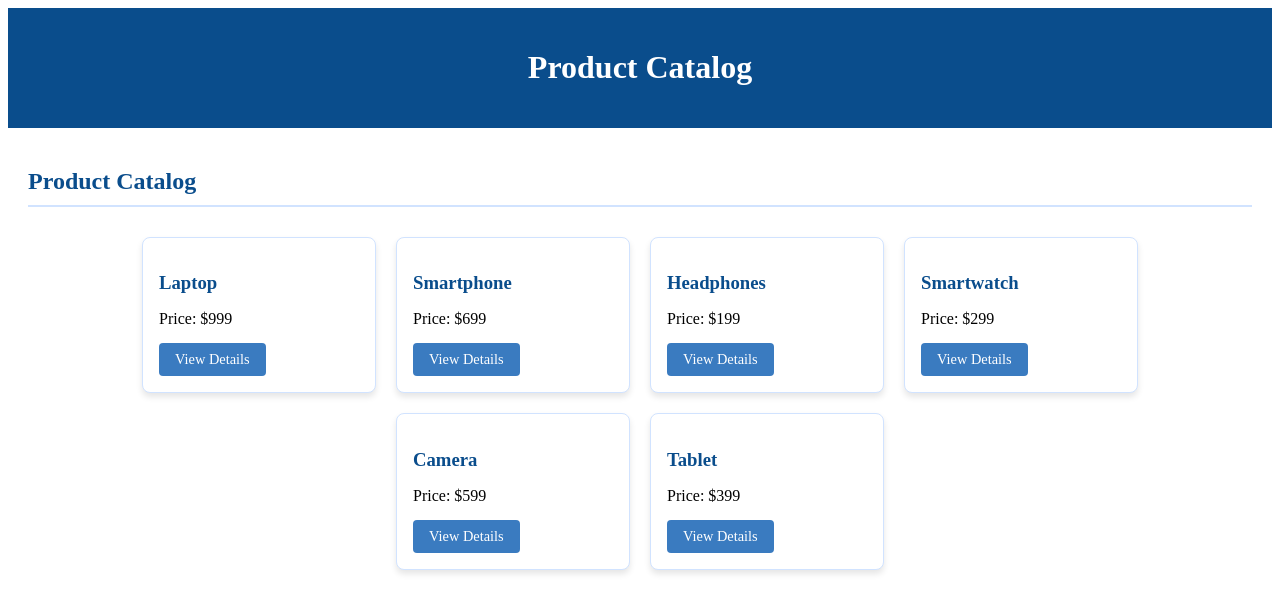
Test case: Autograder Tests › Navigation: Clicking a product link navigates to detail page
This screenshot has width=1280, height=592.
Note: Click the first one (Laptop, ID 1)
Click the link "View Details" below "999" at (212, 360), box [159,343,266,376]
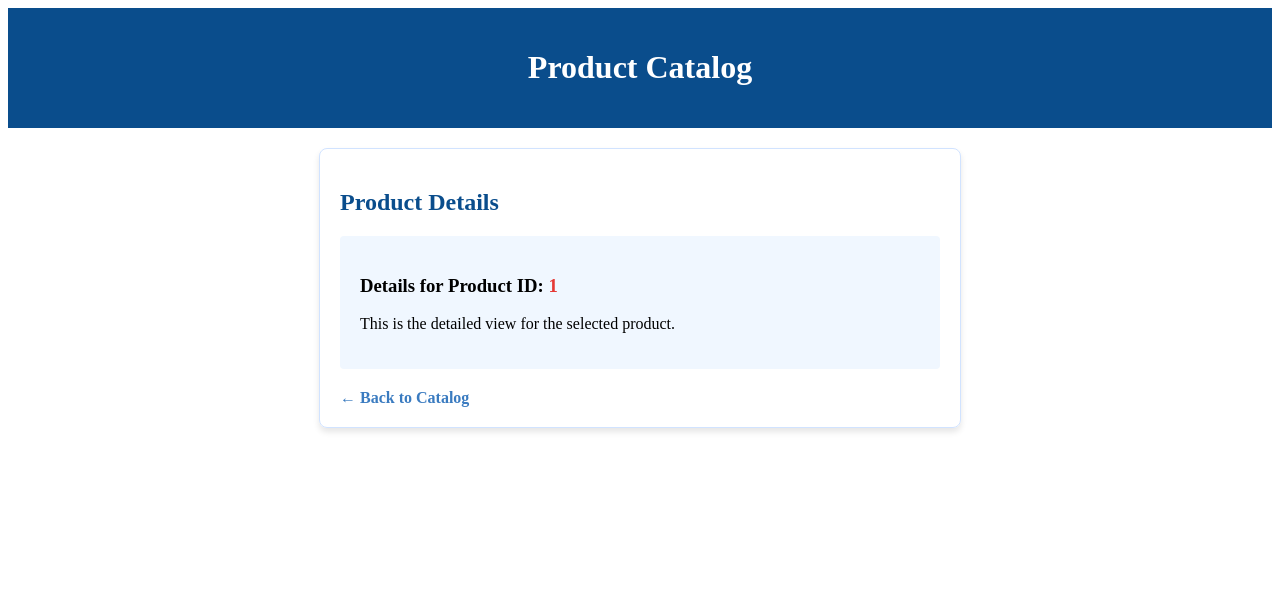
Expected: the text "1" is shown, [548,274,558,296]
Expected: the heading "Details for Product ID: 1" is shown, [360,274,558,296]
